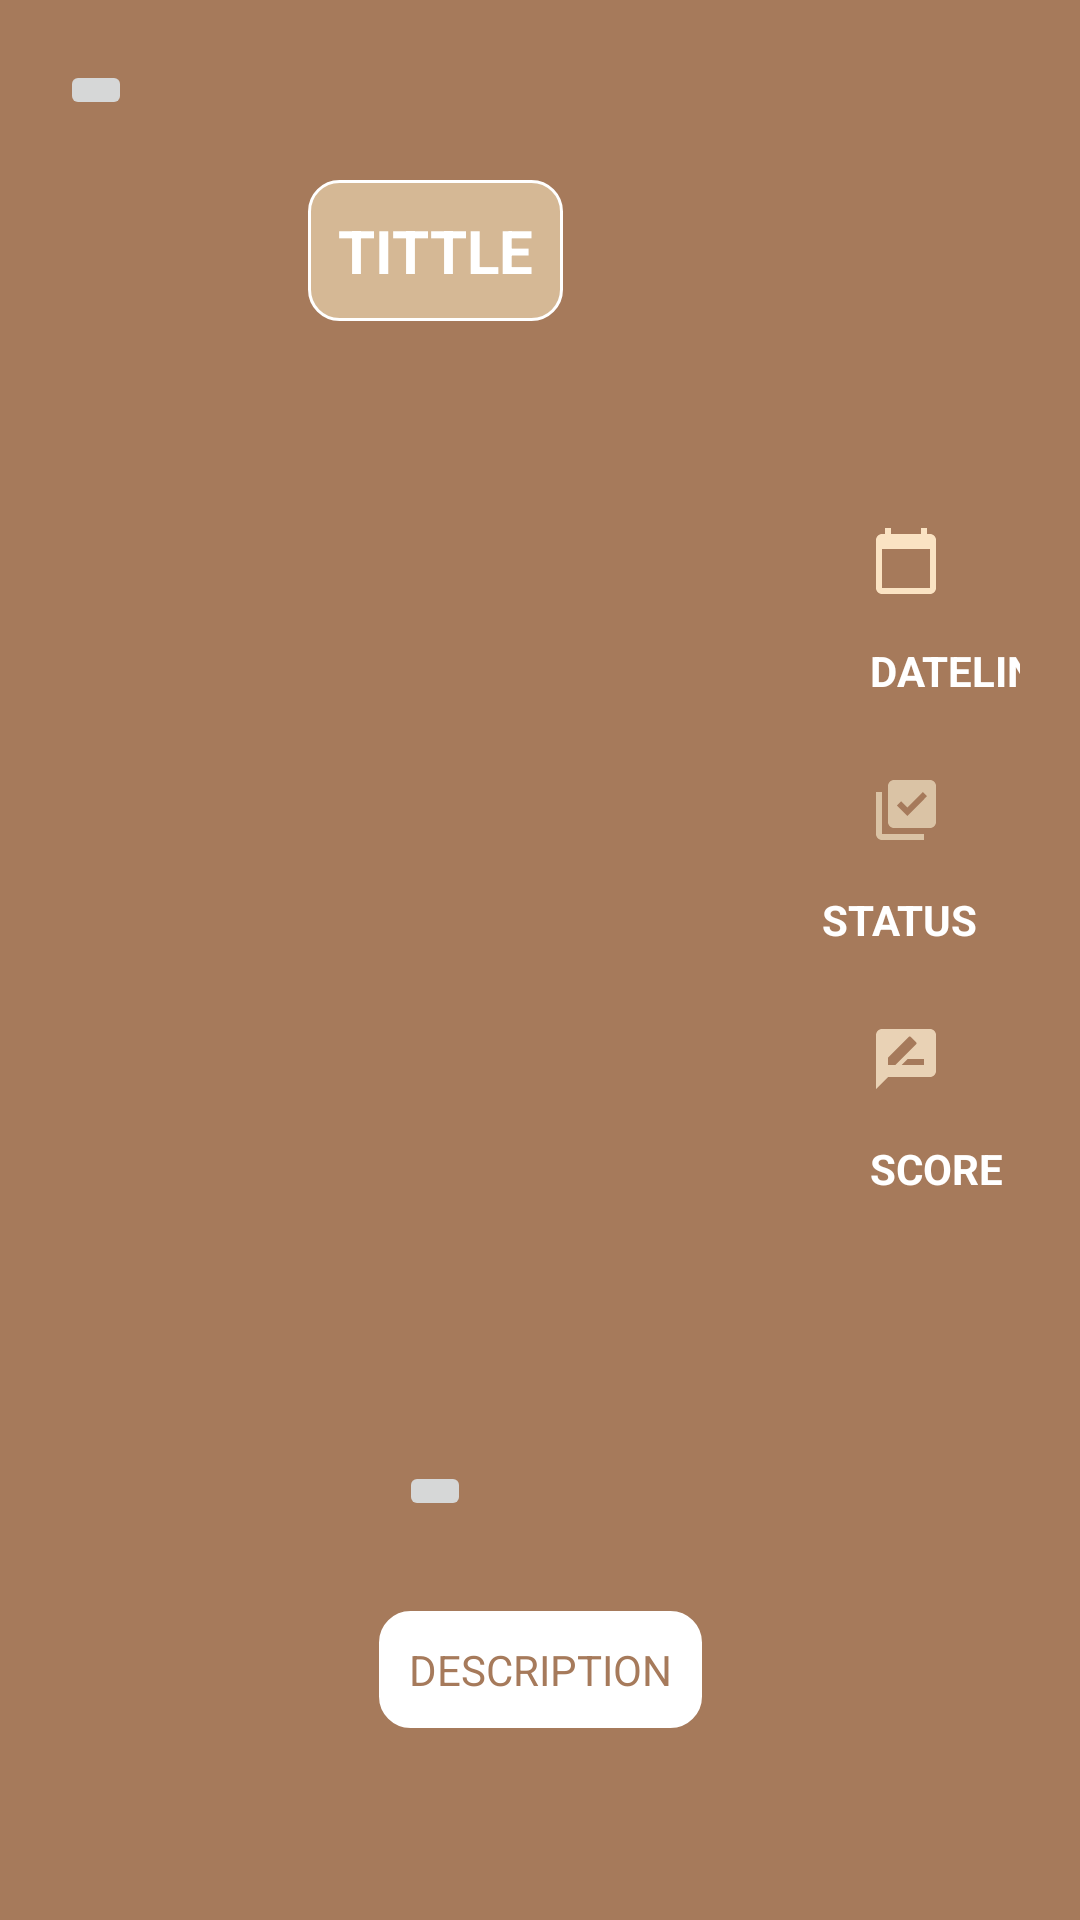

Where icons sit on this 1080 × 1920 app screen, as box(x1, y1, x2, y2):
calendar today: box(876, 528, 936, 594)
library add check: box(876, 780, 936, 840)
rate review: box(876, 1029, 936, 1089)
